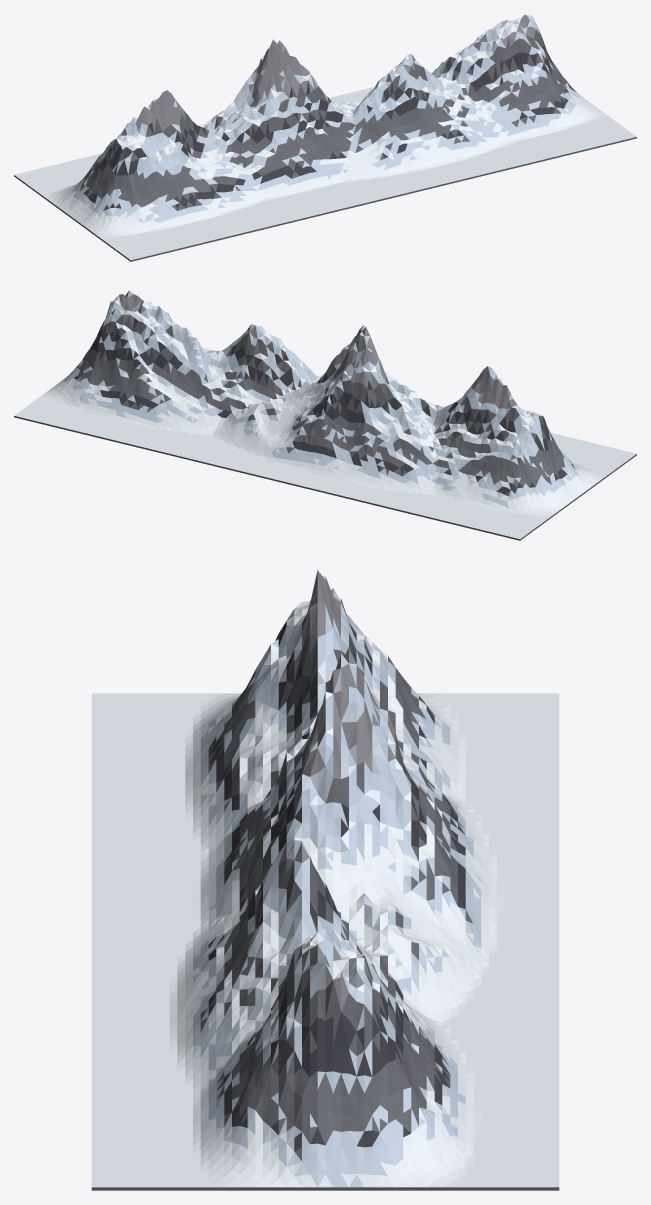
The model's file is mountain_range.obj.
The picture shows the model from 3 angles, top to bottom: view 1: azimuth 30°, elevation 25°; view 2: azimuth 150°, elevation 25°; view 3: azimuth 270°, elevation 25°; orthographic projection. The views are drawn at different scales.
Parts seen in each view (by area): view 1: mountain_range; view 2: mountain_range; view 3: mountain_range.
Boxes of the visible parts, bbox=[...] form: mountain_range: bbox=[14, 14, 636, 261]; mountain_range: bbox=[14, 290, 636, 540]; mountain_range: bbox=[91, 570, 559, 1190].
Size of the model in its own units: 1000 by 236 by 400.
Materials: 1 (1 with a texture image).
